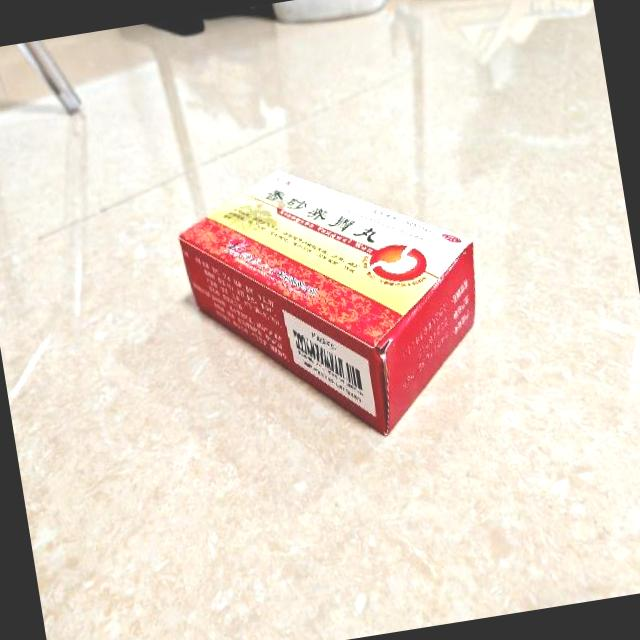box: (169, 139, 502, 464)
